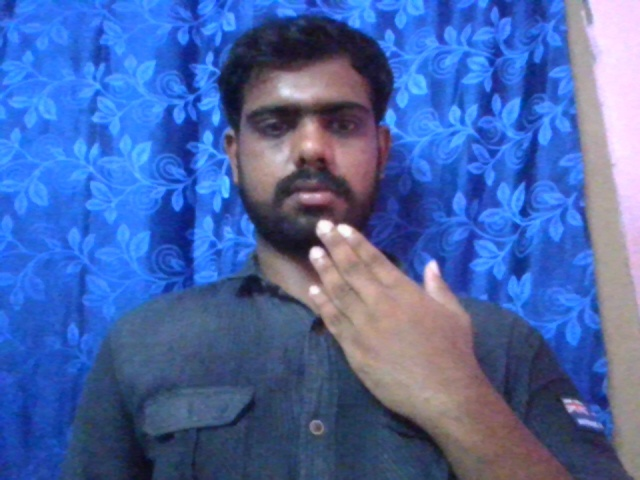Thanks: (302, 209, 472, 400)
